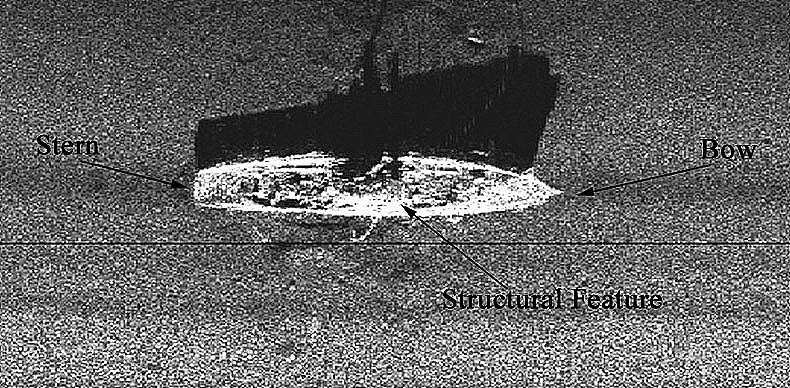ship: (190, 148, 564, 242)
